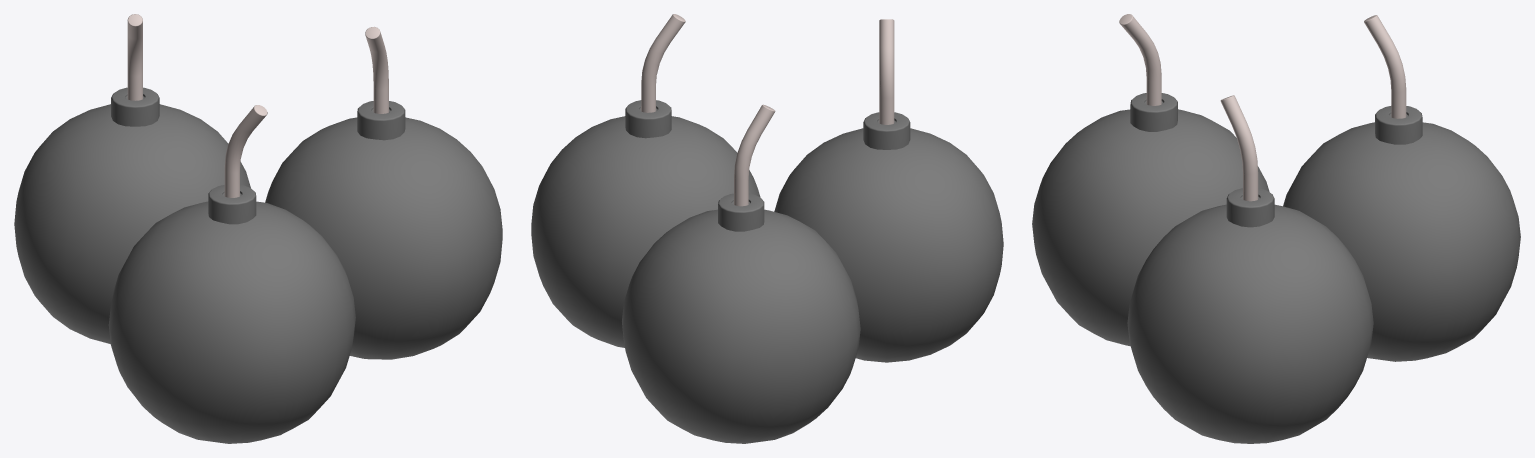
The model's file is Public_14_Cannonballs_1.glb.
3 renders of one model, left to right at view 1: azimuth 30°, elevation 25°; view 2: azimuth 150°, elevation 25°; view 3: azimuth 270°, elevation 25°, orthographic. The views are drawn at different scales.
Parts seen in each view (by area): view 1: Public_14_Cannonballs_1; view 2: Public_14_Cannonballs_1; view 3: Public_14_Cannonballs_1.
Boxes of the visible parts, <box> form: Public_14_Cannonballs_1: <box>14,14,502,443</box>; Public_14_Cannonballs_1: <box>531,14,1003,443</box>; Public_14_Cannonballs_1: <box>1032,14,1520,443</box>.
Bounding box in the file's own units: 0.8798 × 0.6744 × 0.9134.
Materials: 1 (1 with a texture image).
